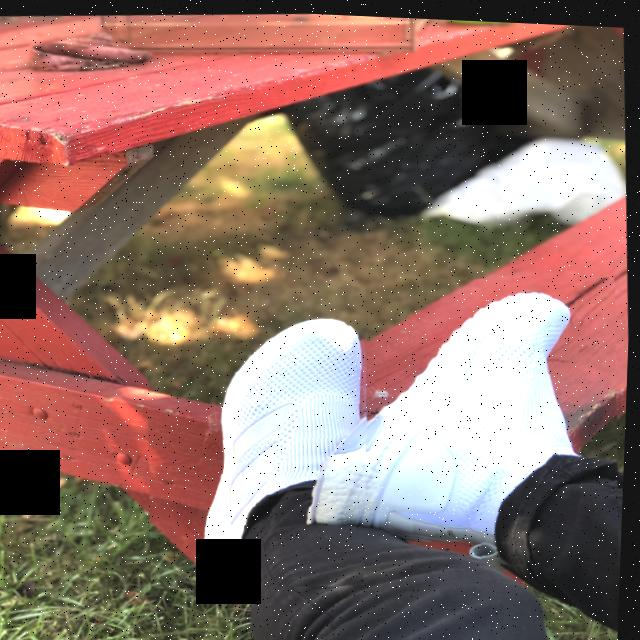shoe: (348, 263, 632, 575), (141, 276, 387, 595)
